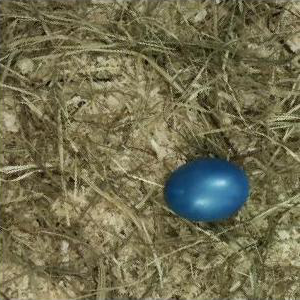egg: (165, 158, 250, 222)
